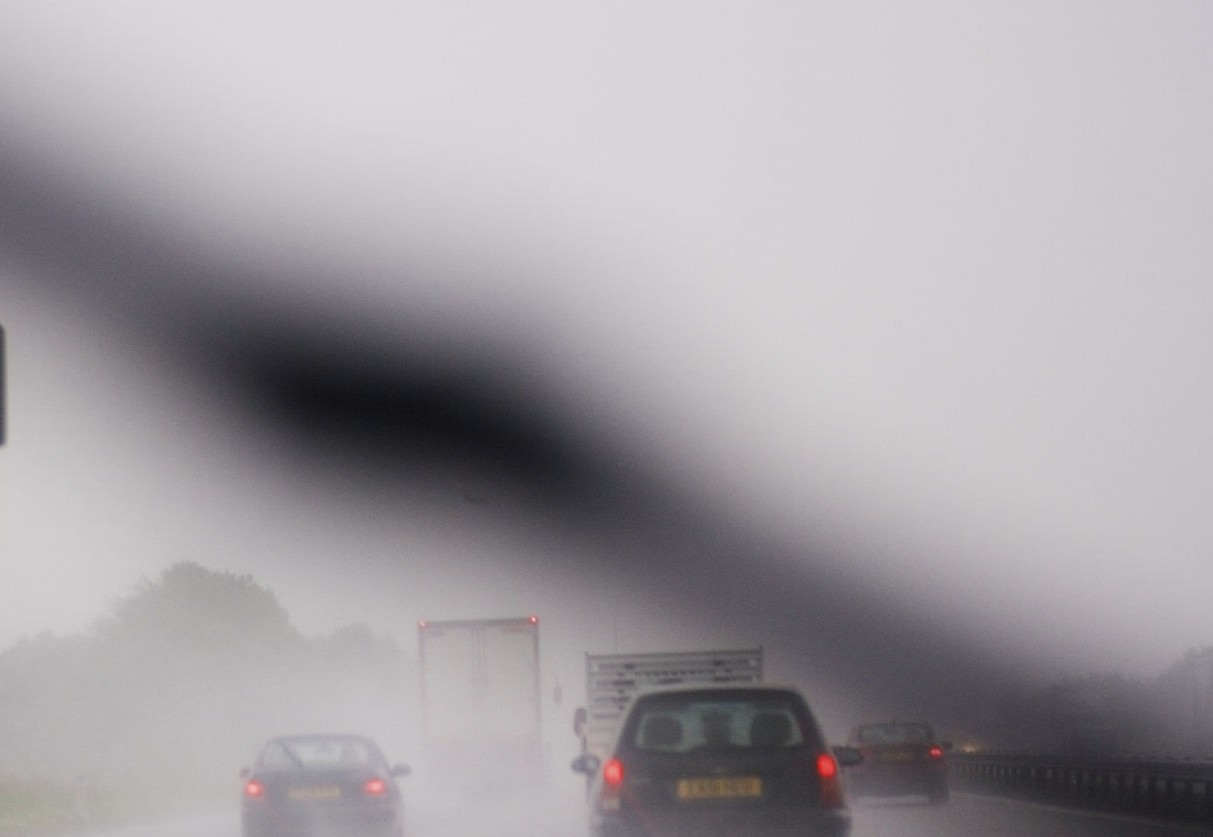car: (592, 680, 852, 833), (236, 733, 411, 836), (846, 720, 954, 804)
truck: (569, 652, 764, 806), (418, 608, 539, 834)
